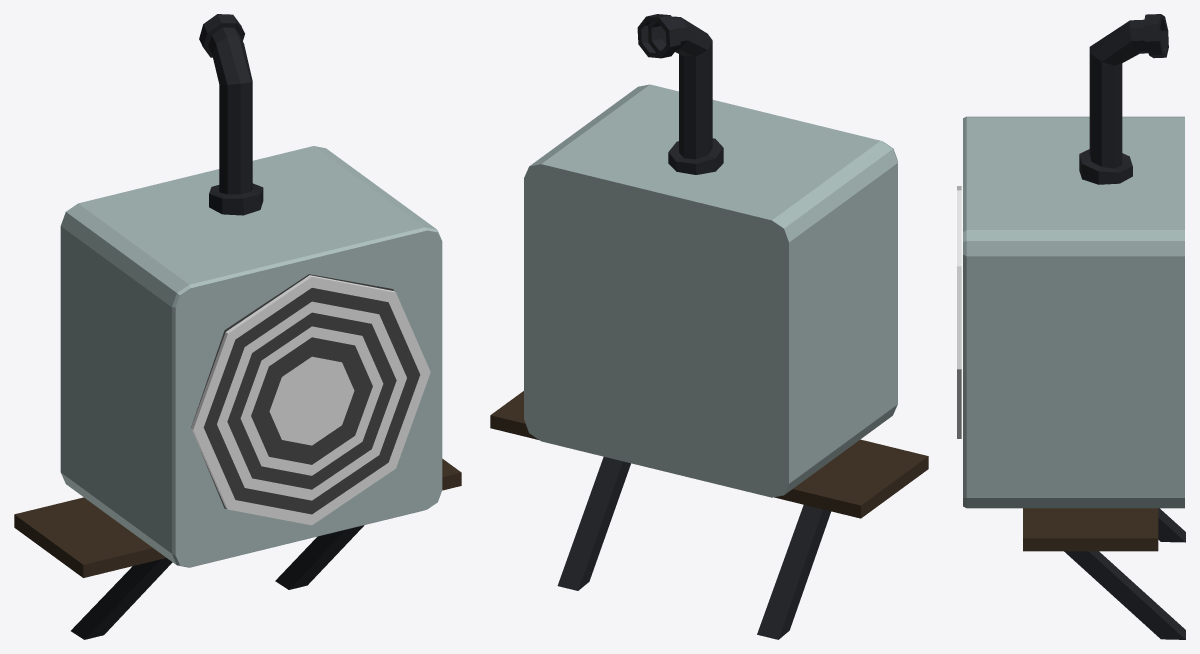
File: ARCondi.fbx
The picture shows the model from 3 angles, left to right: view 1: azimuth 30°, elevation 25°; view 2: azimuth 150°, elevation 25°; view 3: azimuth 270°, elevation 25°; orthographic projection. The views are drawn at different scales.
Visible parts, largest first — view 1: Elbow Joint; view 2: Elbow Joint; view 3: Elbow Joint.
Boxes of the visible parts, x1,y1,x2,y2 form: Elbow Joint: [14, 14, 461, 639]; Elbow Joint: [490, 14, 928, 639]; Elbow Joint: [957, 14, 1185, 639].
Size of the model in its own units: 59.28 by 88.85 by 31.63.
